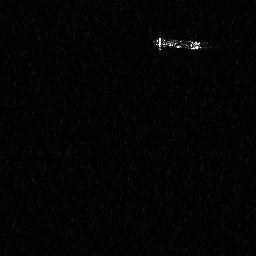ship: (150, 31, 213, 53)
